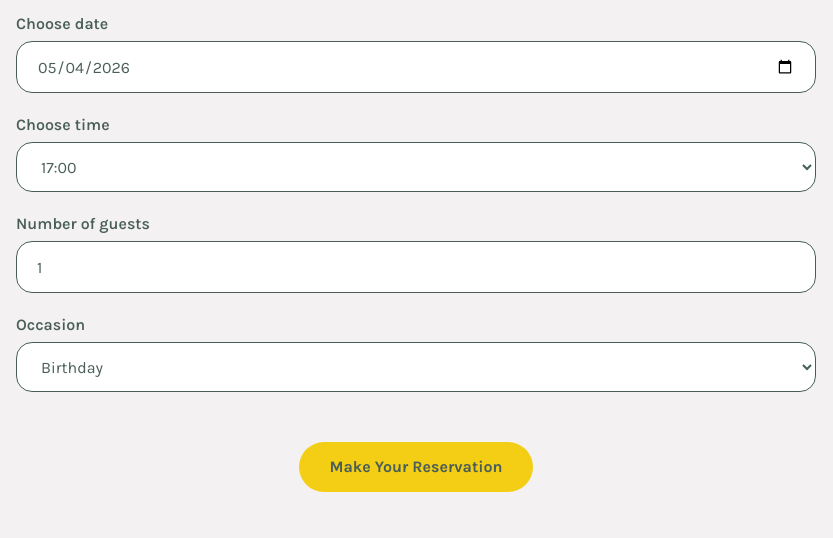
Test: BookingForm › disables submit button when guests are invalid
Step 1. Replace the text in the number field labelled "Number of guests" with "0" → (416, 267), box 16,241 -> 816,293
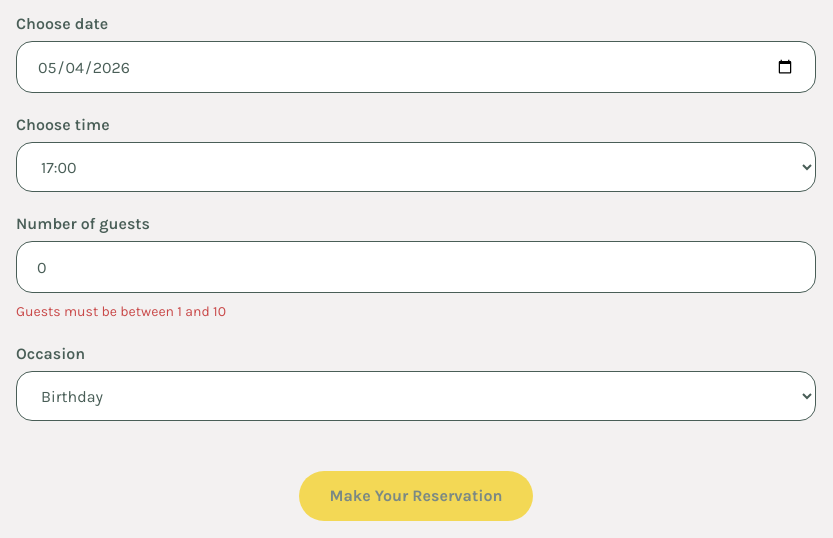
Check: the button is disabled, box 300,471 -> 533,521
